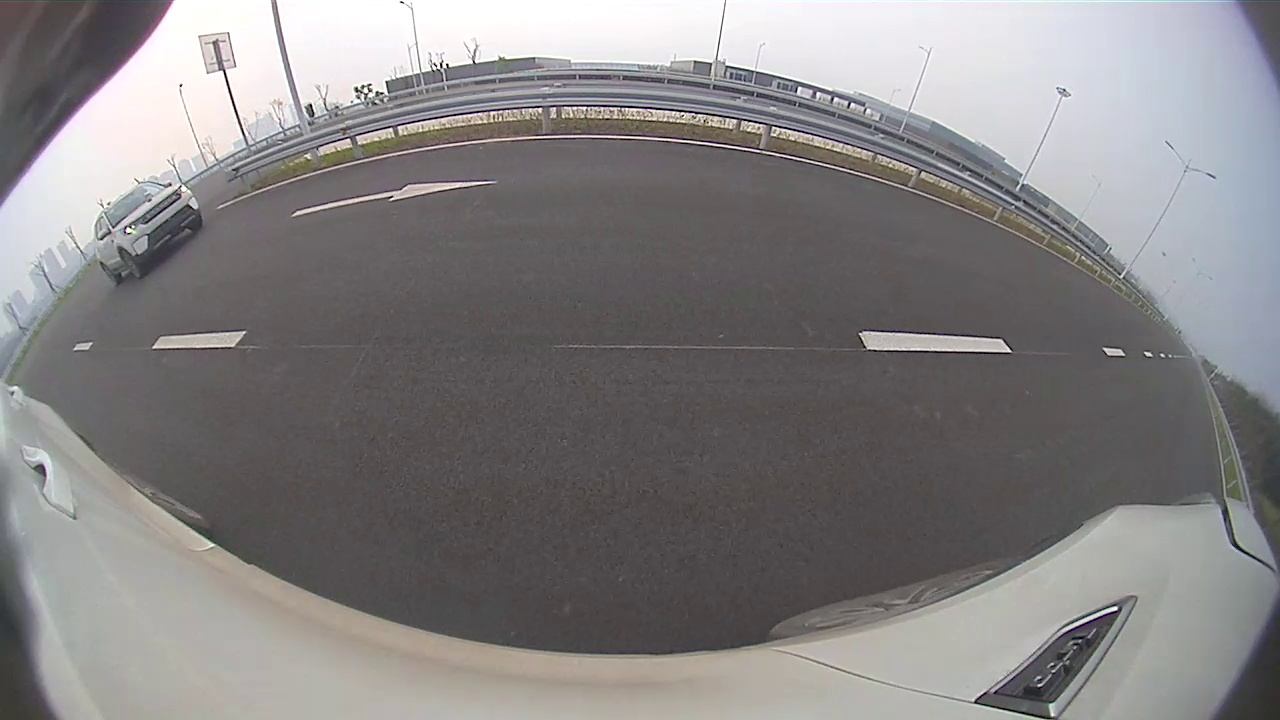car: (399, 146, 529, 236)
front: (515, 180, 528, 211)
rear: (480, 188, 500, 223)
